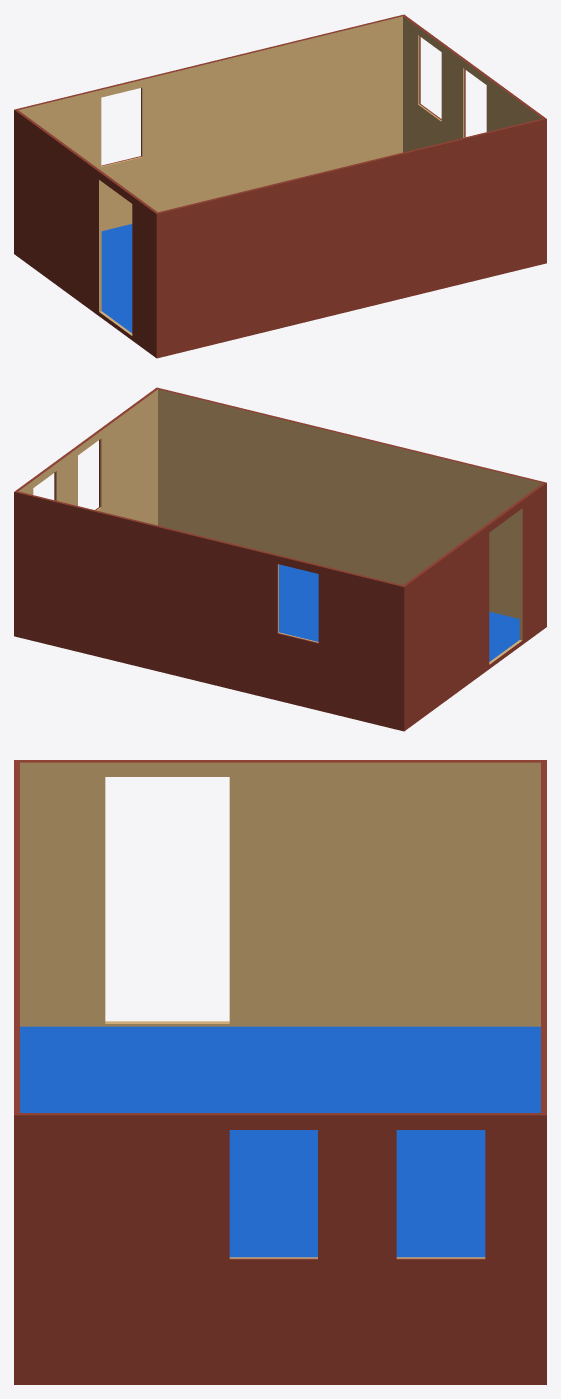
The model's file is SM_Room_001.fbx.
3 renders of one model, top to bottom at view 1: azimuth 30°, elevation 25°; view 2: azimuth 150°, elevation 25°; view 3: azimuth 270°, elevation 25°, orthographic. The views are drawn at different scales.
Parts seen in each view (by area): view 1: Room; view 2: Room; view 3: Room.
Part boxes in pixels (x1,y1,x2,y2): Room: [14, 14, 546, 358]; Room: [14, 387, 546, 731]; Room: [14, 760, 546, 1384].
Bounding box in the file's own units: 710 × 251 × 450.
